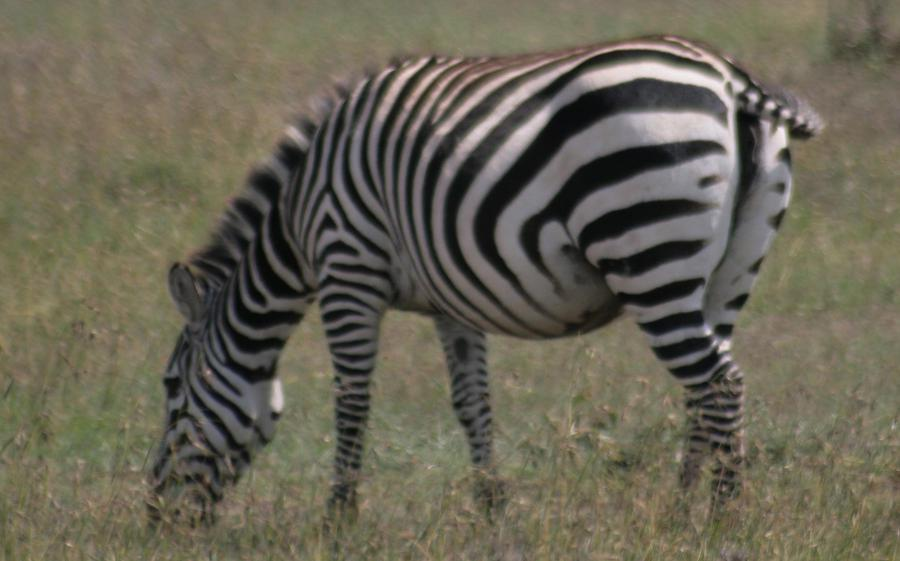zebra_plains: (274, 45, 729, 355)
